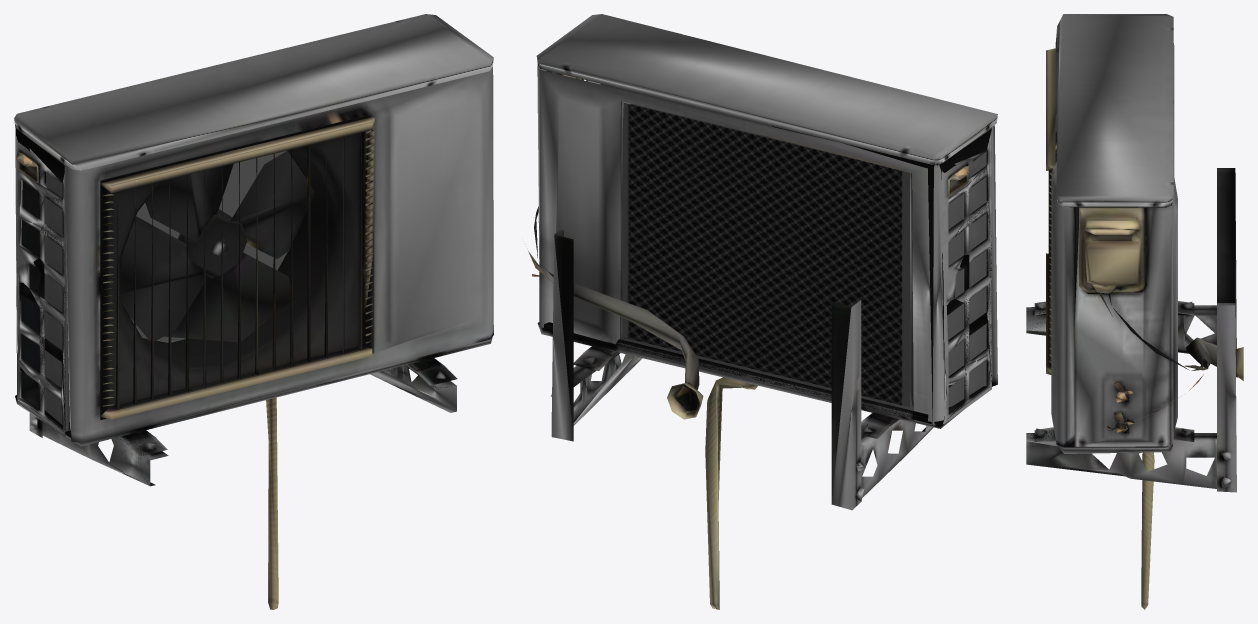
File: aircon.glb
3 views of the same model, side by side, from view 1: azimuth 30°, elevation 25°; view 2: azimuth 150°, elevation 25°; view 3: azimuth 270°, elevation 25° (orthographic). The views are drawn at different scales.
Parts seen in each view (by area): view 1: aircon; view 2: aircon; view 3: aircon.
Boxes of the visible parts, <box> form: aircon: <box>14,14,493,609</box>; aircon: <box>528,14,997,609</box>; aircon: <box>1026,14,1243,609</box>.
Size of the model in its own units: 0.7961 by 0.922 by 0.3742.
1 material, 1 textured.
